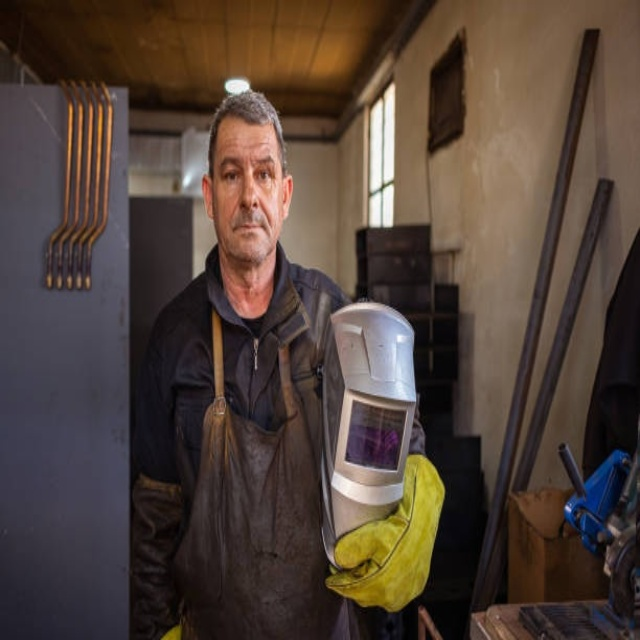Guantes: (322, 450, 444, 610)
Sin_gafas: (215, 149, 281, 191)
Sin_mascara: (229, 210, 270, 253)
